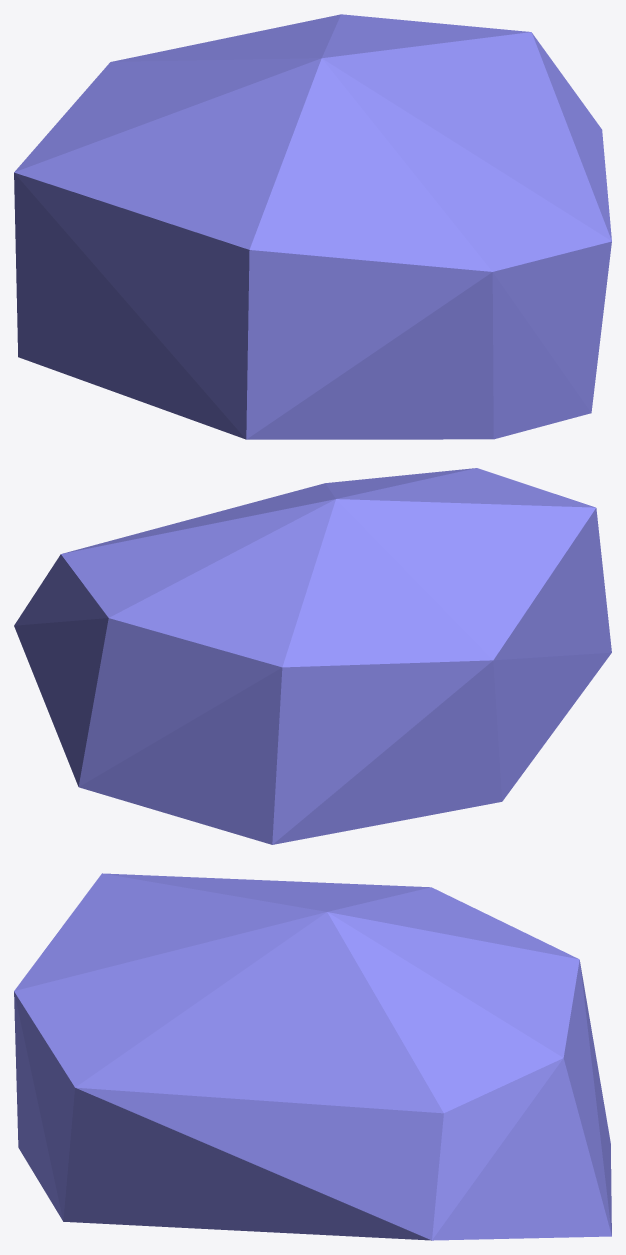
The model's file is Rock_02_Collider_01.FBX.
3 views of the same model, one above another, from view 1: azimuth 30°, elevation 25°; view 2: azimuth 150°, elevation 25°; view 3: azimuth 270°, elevation 25° (orthographic). The views are drawn at different scales.
Visible parts, largest first — view 1: COLLIDER1; view 2: COLLIDER1; view 3: COLLIDER1.
Part boxes in pixels (left/top/right/bottom): COLLIDER1: left=14, top=14, right=611, bottom=439; COLLIDER1: left=14, top=468, right=611, bottom=844; COLLIDER1: left=14, top=873, right=611, bottom=1240.
Size of the model in its own units: 41.01 by 19.33 by 39.41.
